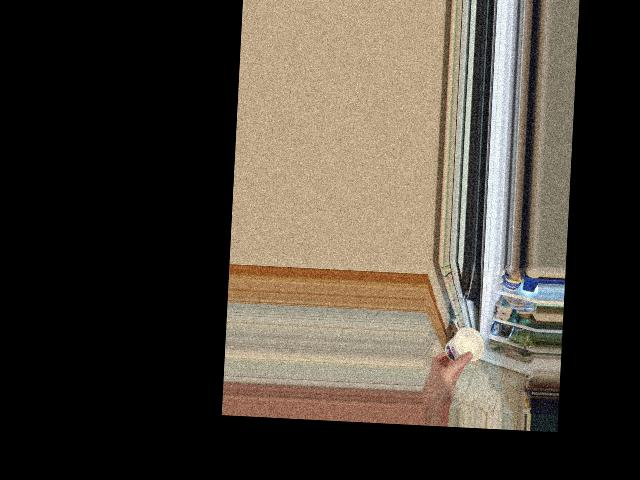cotage: (442, 326, 481, 365)
